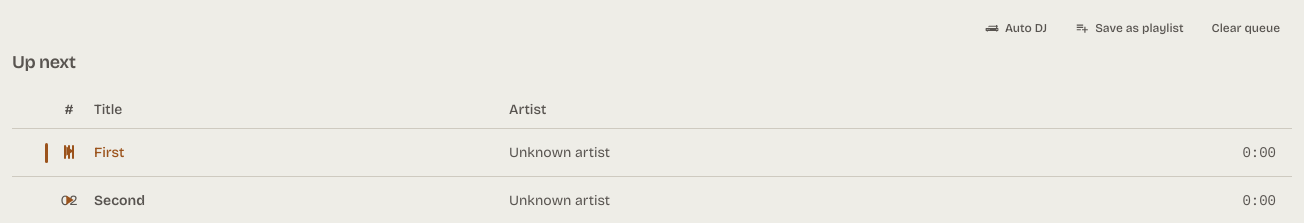
Scenario: QueuePanel › shows a context menu with play and remove actions
Right-click the text "First" at (109, 152), box [94,142,124,162]
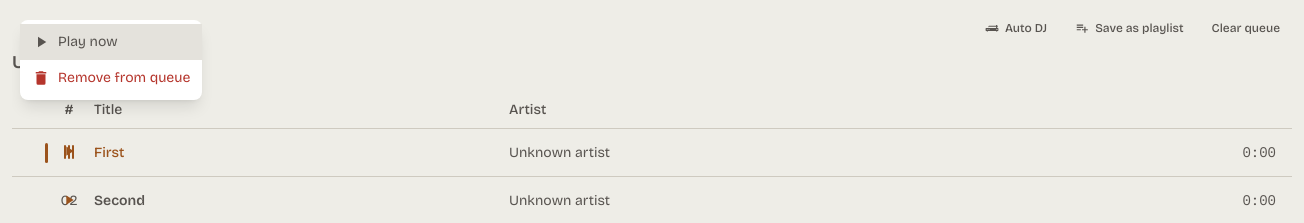
Expected: the menu item "Play now" is shown, [20,24,202,60]
Expected: the menu item "Remove from queue" is shown, [20,60,202,96]
